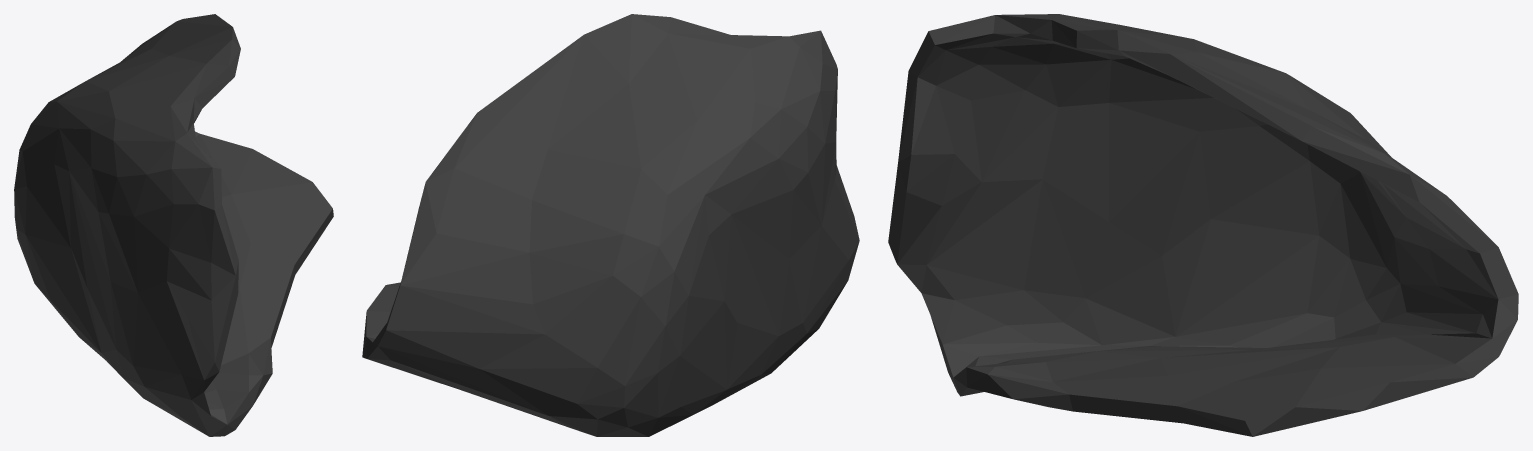
Rendered from Tibia_tibial_tuberosity.glb.
3 renders of one model, left to right at view 1: azimuth 30°, elevation 25°; view 2: azimuth 150°, elevation 25°; view 3: azimuth 270°, elevation 25°, orthographic. The views are drawn at different scales.
Parts seen in each view (by area): view 1: Tibia_tibial_tuberosity; view 2: Tibia_tibial_tuberosity; view 3: Tibia_tibial_tuberosity.
Part boxes in pixels (x1,y1,x2,y2): Tibia_tibial_tuberosity: (14,14,333,436); Tibia_tibial_tuberosity: (362,14,859,436); Tibia_tibial_tuberosity: (888,14,1518,436).
Size of the model in its own units: 0.0215 by 0.0227 by 0.032.
1 material, 1 textured.
